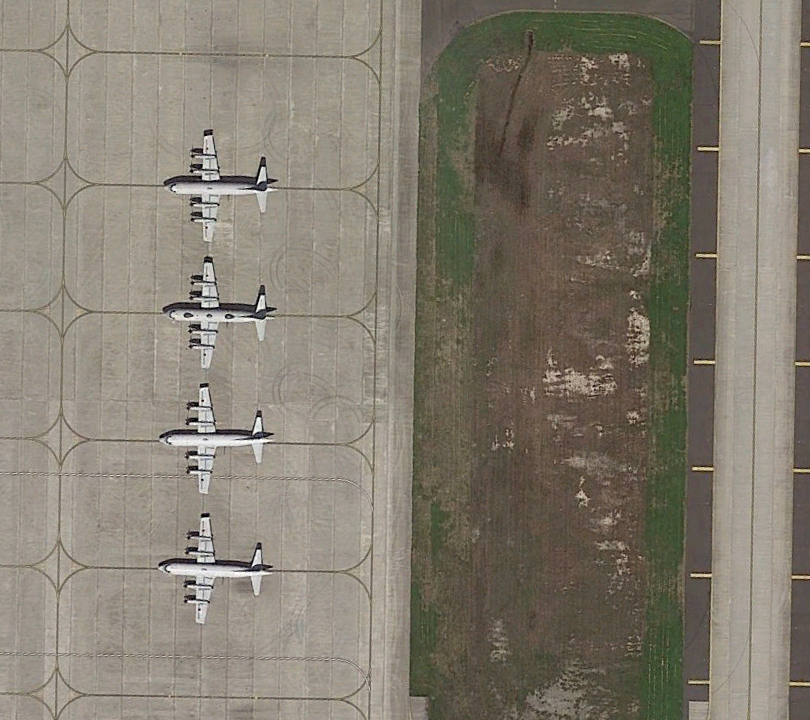A9: (159, 125, 290, 249), (156, 376, 284, 497), (152, 504, 280, 625), (160, 250, 286, 368)
